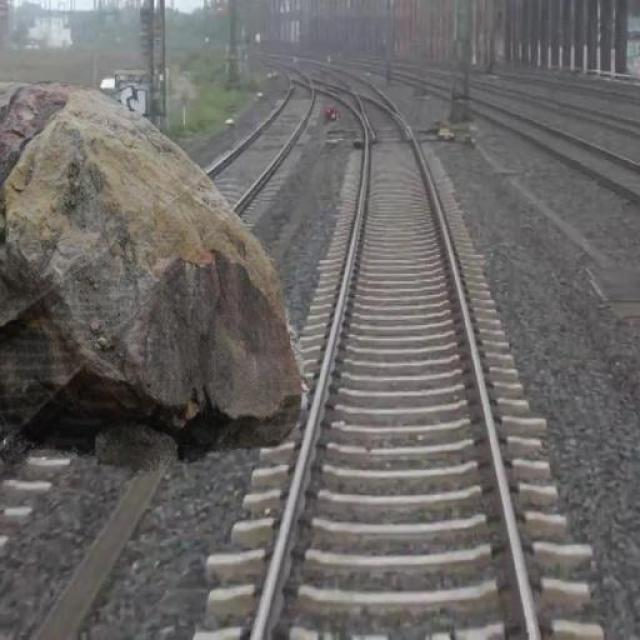Stone: (1, 72, 313, 462)
